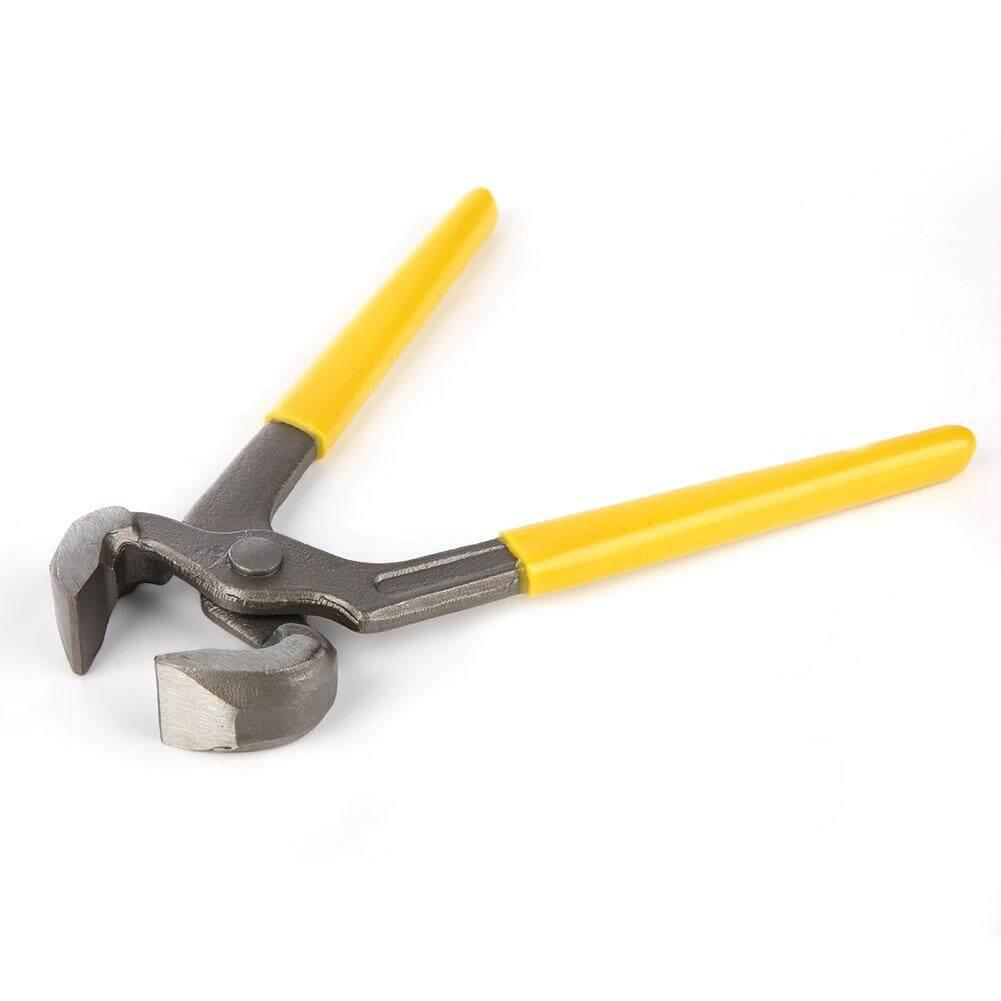Pincers: (43, 165, 988, 780)
